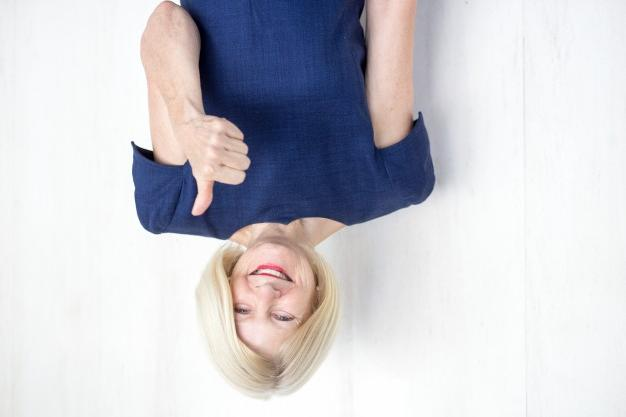thumbsdown: (190, 115, 251, 218)
